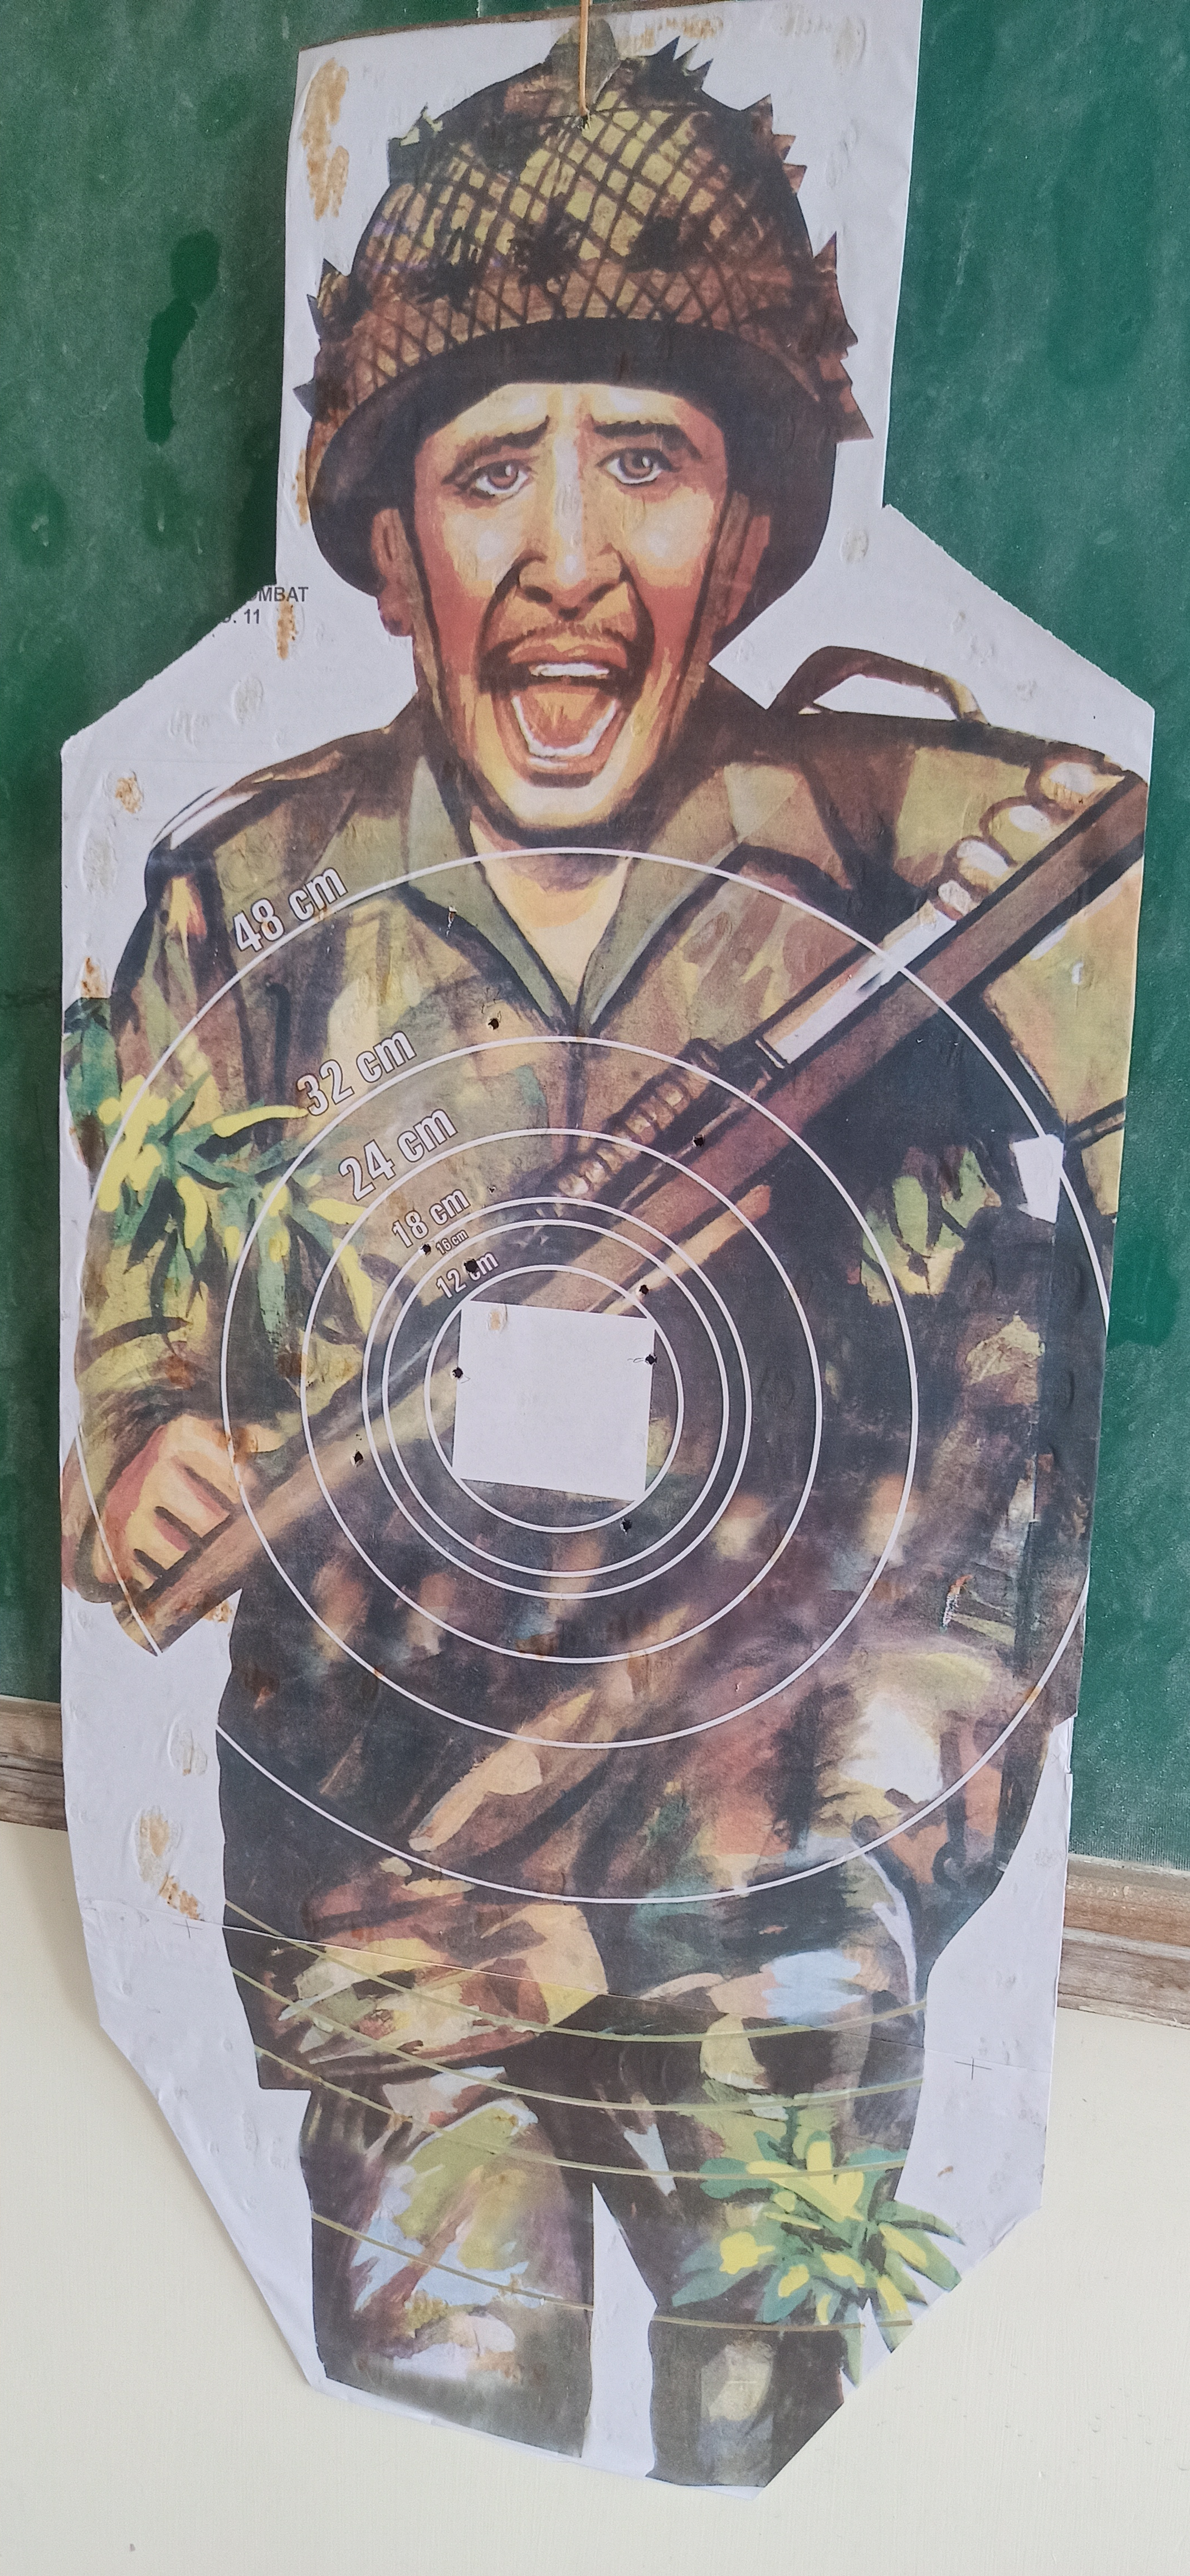bullet hit: (457, 1252, 487, 1278), (345, 1449, 376, 1470), (414, 1240, 442, 1262), (482, 1014, 508, 1033), (687, 1132, 713, 1152), (616, 1513, 638, 1536), (636, 1280, 656, 1301), (449, 1364, 468, 1382), (643, 1350, 659, 1370)
white box: (449, 1299, 664, 1503)
